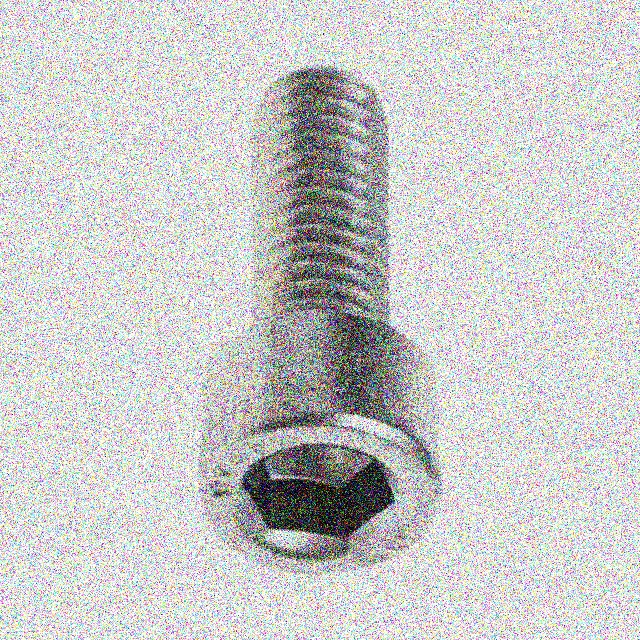allen: (241, 443, 400, 542)
